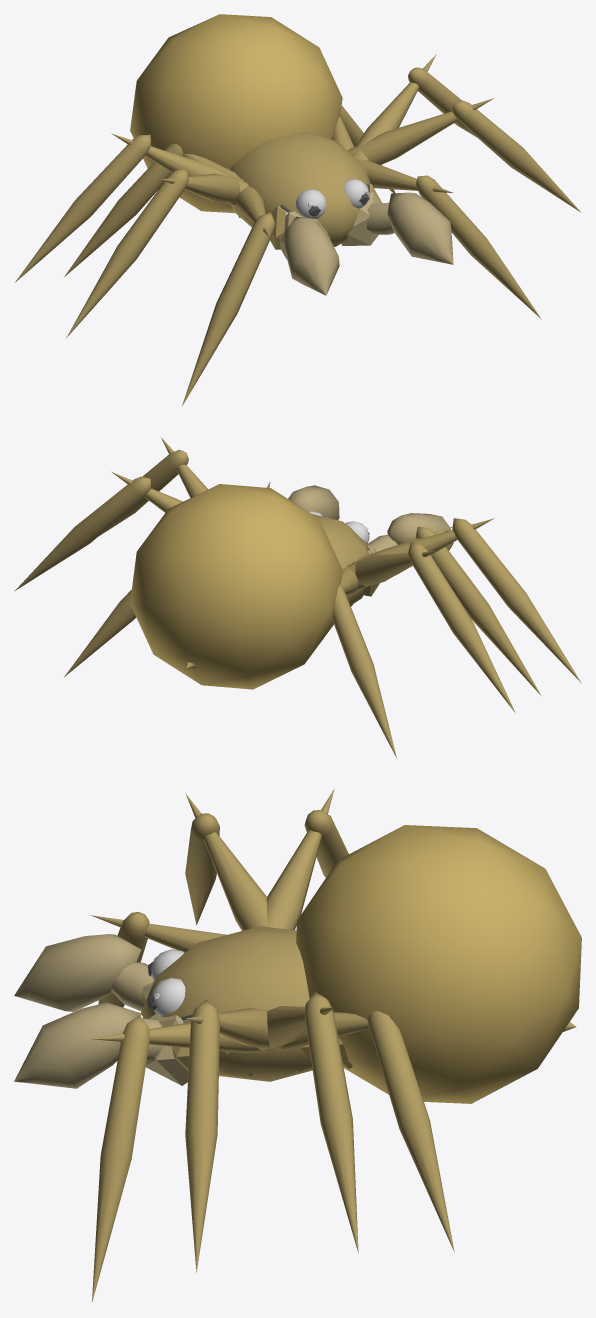
File: eriovixia-excelsa.glb
The picture shows the model from 3 angles, top to bottom: view 1: azimuth 30°, elevation 25°; view 2: azimuth 150°, elevation 25°; view 3: azimuth 270°, elevation 25°; orthographic projection. The views are drawn at different scales.
Parts seen in each view (by area): view 1: abdomen, cephalothorax, leg2-l0, leg2-r0, leg1-r0, leg3-r0, leg3-l0, palp-l1, palp-r1, leg0-r0, leg1-l0, leg0-l0 (+3 smaller); view 2: abdomen, leg1-r0, leg2-r0, leg1-l0, leg0-r0, leg3-r0, leg2-l0, cephalothorax, leg0-l0, palp-r1, palp-l1; view 3: abdomen, cephalothorax, leg2-l0, leg3-l0, leg1-l0, leg0-l0, palp-l1, palp-r1, leg2-r0, leg1-r0, leg3-r0, palp-r0 (+1 smaller).
Part boxes in pixels (left/top/right/bottom): abdomen: left=130, top=14, right=342, bottom=213; cephalothorax: left=230, top=131, right=381, bottom=259; leg2-l0: left=348, top=98, right=581, bottom=212; leg2-r0: left=66, top=168, right=243, bottom=338; leg1-r0: left=15, top=133, right=248, bottom=282; leg3-r0: left=182, top=186, right=275, bottom=406; leg3-l0: left=357, top=159, right=541, bottom=319; palp-l1: left=387, top=192, right=453, bottom=264; palp-r1: left=284, top=216, right=339, bottom=295; leg0-r0: left=64, top=144, right=240, bottom=276; leg1-l0: left=352, top=54, right=477, bottom=160; leg0-l0: left=332, top=106, right=395, bottom=193; abdomen: left=130, top=484, right=342, bottom=689; leg1-r0: left=352, top=542, right=515, bottom=713; leg2-r0: left=347, top=518, right=581, bottom=683; leg1-l0: left=14, top=471, right=182, bottom=591; leg0-r0: left=332, top=567, right=396, bottom=758; leg3-r0: left=357, top=526, right=541, bottom=696; leg2-l0: left=98, top=437, right=208, bottom=536; cephalothorax: left=312, top=514, right=379, bottom=606; leg0-l0: left=64, top=589, right=136, bottom=676; palp-r1: left=387, top=513, right=453, bottom=550; palp-l1: left=288, top=485, right=339, bottom=519; abdomen: left=296, top=825, right=581, bottom=1103; cephalothorax: left=141, top=926, right=352, bottom=1085; leg2-l0: left=185, top=999, right=286, bottom=1272; leg3-l0: left=91, top=1015, right=270, bottom=1302; leg1-l0: left=257, top=992, right=358, bottom=1253; leg0-l0: left=271, top=1011, right=454, bottom=1252; palp-l1: left=14, top=1002, right=141, bottom=1088; palp-r1: left=14, top=934, right=141, bottom=1011; leg2-r0: left=185, top=793, right=267, bottom=930; leg1-r0: left=266, top=788, right=348, bottom=930; leg3-r0: left=90, top=911, right=226, bottom=1007; palp-r0: left=111, top=962, right=153, bottom=1011.
Size of the model in its own units: 0.5084 by 0.2312 by 0.3508.
